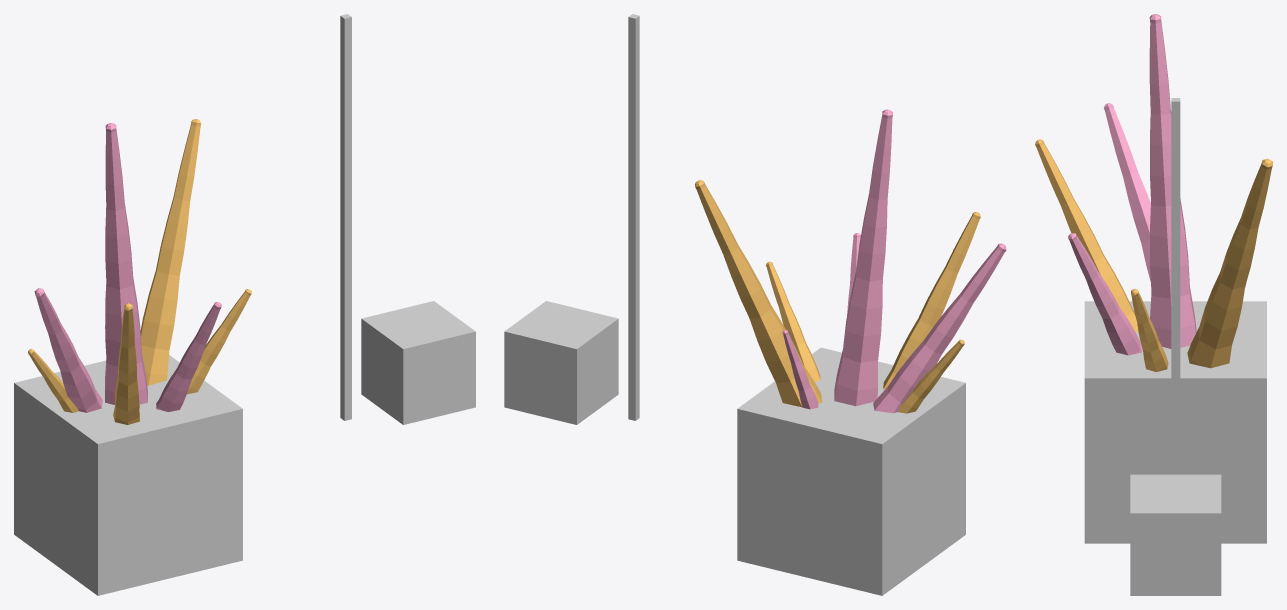
Rendered from Underwater_LOD0_roblox.fbx.
3 views of the same model, side by side, from view 1: azimuth 30°, elevation 25°; view 2: azimuth 150°, elevation 25°; view 3: azimuth 270°, elevation 25° (orthographic). The views are drawn at different scales.
Visible parts, largest first — view 1: Ref_Head, 1_Stud_Cube, Coral_Pink_01, Coral_Orange_01, 5.3_Stud_Height_Ruler, Coral_Pink_02, Coral_Orange_02, Coral_Pink_03, Coral_Orange_03, Coral_Orange_04; view 2: Ref_Head, 1_Stud_Cube, Coral_Pink_01, Coral_Orange_01, 5.3_Stud_Height_Ruler, Coral_Pink_02, Coral_Orange_02, Coral_Orange_03, Coral_Orange_04, Coral_Pink_04; view 3: Ref_Head, 1_Stud_Cube, Coral_Pink_01, Coral_Orange_01, 5.3_Stud_Height_Ruler, Coral_Orange_02, Coral_Pink_03, Coral_Pink_02, Coral_Orange_03.
Boxes of the visible parts, bbox=[...] form: Ref_Head: bbox=[14, 355, 242, 595]; 1_Stud_Cube: bbox=[361, 301, 475, 424]; Coral_Pink_01: bbox=[105, 123, 147, 404]; Coral_Orange_01: bbox=[140, 119, 201, 385]; 5.3_Stud_Height_Ruler: bbox=[340, 14, 351, 420]; Coral_Pink_02: bbox=[34, 288, 102, 412]; Coral_Orange_02: bbox=[113, 303, 139, 424]; Coral_Pink_03: bbox=[156, 302, 221, 411]; Coral_Orange_03: bbox=[187, 289, 251, 394]; Coral_Orange_04: bbox=[28, 349, 78, 412]; Ref_Head: bbox=[737, 347, 965, 595]; 1_Stud_Cube: bbox=[504, 301, 618, 424]; Coral_Pink_01: bbox=[834, 109, 892, 406]; Coral_Orange_01: bbox=[695, 180, 821, 406]; 5.3_Stud_Height_Ruler: bbox=[628, 14, 639, 420]; Coral_Pink_02: bbox=[873, 243, 1006, 413]; Coral_Orange_02: bbox=[883, 212, 980, 389]; Coral_Orange_03: bbox=[766, 261, 820, 381]; Coral_Orange_04: bbox=[898, 339, 964, 413]; Coral_Pink_04: bbox=[782, 330, 818, 409]; Ref_Head: bbox=[1084, 301, 1266, 543]; 1_Stud_Cube: bbox=[1130, 474, 1221, 595]; Coral_Pink_01: bbox=[1149, 14, 1196, 348]; Coral_Orange_01: bbox=[1187, 158, 1272, 368]; 5.3_Stud_Height_Ruler: bbox=[1171, 98, 1180, 474]; Coral_Orange_02: bbox=[1035, 139, 1138, 332]; Coral_Pink_03: bbox=[1068, 233, 1142, 355]; Coral_Pink_02: bbox=[1104, 103, 1196, 322]; Coral_Orange_03: bbox=[1131, 288, 1168, 371].
Bounding box in the file's own units: 6.21 × 2.61 × 6.3.
